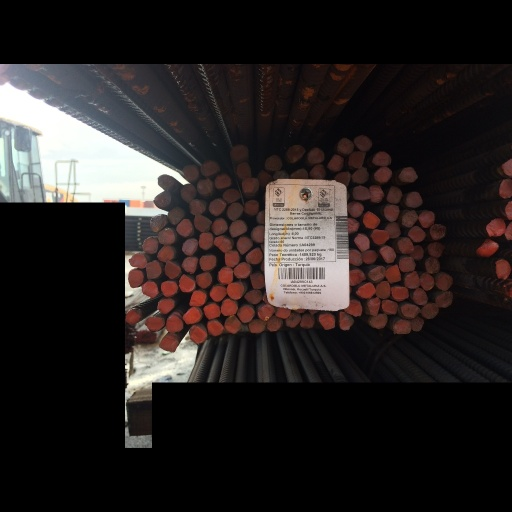dipstick: (476, 239, 499, 257), (486, 217, 506, 237), (189, 325, 207, 345), (213, 235, 232, 253), (193, 215, 212, 233), (182, 306, 201, 324), (175, 218, 193, 237), (165, 316, 184, 334), (384, 263, 401, 283), (227, 201, 244, 221), (236, 235, 253, 255), (153, 191, 173, 208), (495, 259, 511, 280), (435, 290, 453, 308), (348, 151, 366, 169), (245, 246, 263, 264), (220, 299, 238, 317), (210, 217, 228, 235), (208, 198, 226, 216), (167, 206, 185, 224), (351, 166, 370, 183), (287, 145, 306, 162), (181, 255, 198, 274), (164, 260, 181, 279), (159, 336, 178, 353), (180, 184, 196, 204), (225, 314, 240, 335), (144, 316, 165, 331), (436, 273, 453, 291), (405, 191, 422, 209), (374, 167, 392, 184), (379, 245, 396, 263), (363, 211, 380, 229), (344, 300, 362, 317), (327, 154, 345, 171), (307, 146, 325, 163), (229, 220, 247, 237), (226, 282, 244, 299), (237, 306, 255, 323), (206, 319, 224, 336), (196, 178, 214, 195), (150, 213, 167, 231), (129, 252, 147, 269), (398, 167, 417, 183), (407, 226, 426, 242), (390, 285, 409, 301), (375, 280, 391, 299), (370, 229, 389, 245), (353, 135, 372, 151), (356, 282, 375, 298), (338, 311, 354, 330), (179, 273, 195, 292), (128, 269, 144, 288), (146, 260, 161, 280), (258, 303, 275, 320), (337, 137, 354, 154), (233, 261, 250, 278), (210, 285, 227, 302), (189, 198, 206, 215), (157, 245, 174, 262), (125, 308, 142, 325), (424, 256, 440, 274), (386, 186, 402, 204), (402, 209, 418, 227), (354, 234, 370, 252), (230, 145, 248, 161), (218, 266, 234, 284), (198, 255, 216, 271), (142, 236, 158, 254), (372, 151, 391, 166), (351, 185, 370, 200), (243, 289, 262, 304), (200, 161, 219, 176), (499, 178, 512, 199), (421, 303, 438, 319), (418, 211, 434, 228), (383, 204, 399, 221), (404, 271, 420, 288), (347, 201, 363, 218), (349, 269, 365, 286), (371, 313, 388, 329), (242, 177, 259, 193), (196, 271, 212, 288), (183, 165, 200, 181), (181, 239, 198, 255), (158, 228, 175, 244), (142, 281, 159, 297), (158, 298, 175, 314), (419, 273, 434, 291), (427, 241, 445, 256), (369, 184, 384, 202), (367, 266, 385, 281), (264, 155, 282, 170), (223, 188, 241, 203), (203, 304, 221, 319), (198, 232, 213, 250), (401, 304, 420, 318), (367, 297, 381, 316), (251, 224, 265, 243), (397, 237, 413, 253), (399, 256, 415, 272), (385, 222, 401, 238), (319, 314, 335, 330), (285, 311, 301, 327), (243, 199, 259, 215), (161, 281, 177, 297), (413, 288, 428, 305), (381, 299, 398, 314), (266, 316, 283, 331), (309, 163, 326, 178), (225, 250, 240, 267), (189, 291, 206, 306), (157, 174, 175, 188), (430, 224, 446, 239), (334, 171, 350, 186), (361, 250, 378, 264), (250, 272, 264, 289), (214, 174, 231, 188), (249, 318, 266, 332), (300, 313, 315, 328), (236, 163, 251, 178), (409, 316, 423, 332), (394, 320, 410, 334), (258, 171, 272, 187), (347, 217, 360, 234), (410, 244, 424, 259), (289, 168, 308, 179), (349, 249, 362, 265), (274, 306, 291, 318), (501, 157, 512, 175), (504, 221, 512, 240), (504, 201, 512, 219), (272, 170, 289, 178), (257, 210, 265, 224)
